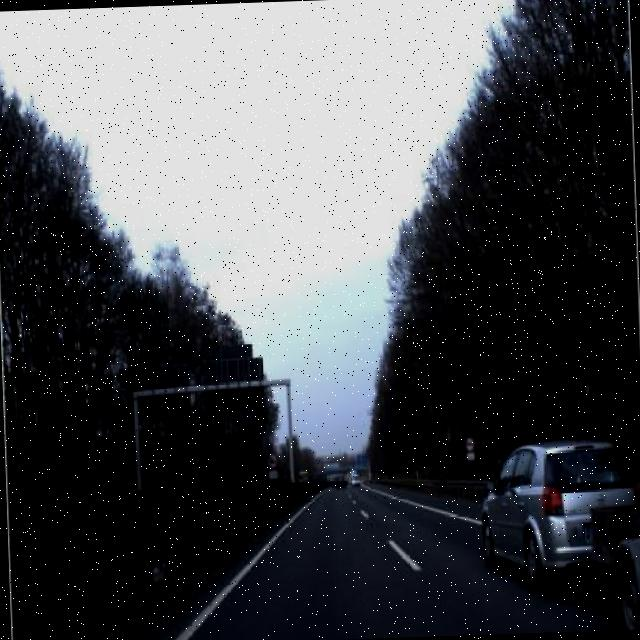Zakaz wyprzedzania: (264, 447, 280, 472), (462, 432, 478, 452)
